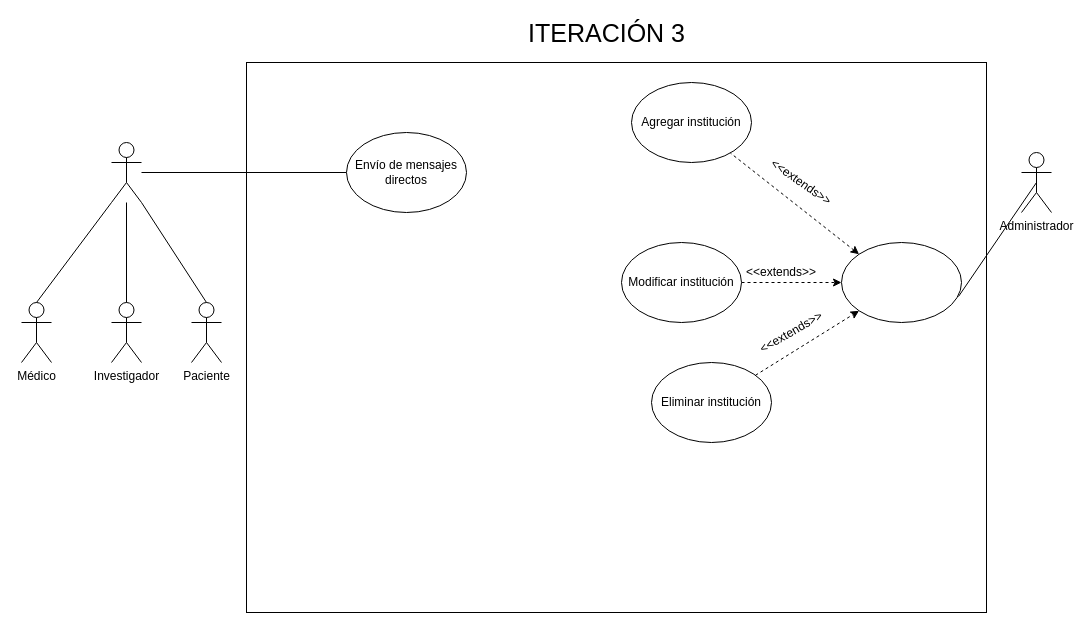
The diagram is 1091 pixels wide and 630 high, and some of its shapes have lost their labels. Each missing label, with the centre of its shape:
"Gestión de instituciones" belongs at (901,282).
"Usuario" belongs at (126,172).
